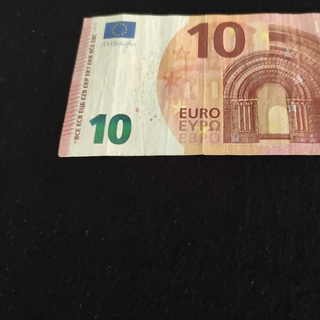10EUROFront: (57, 10, 320, 156)
